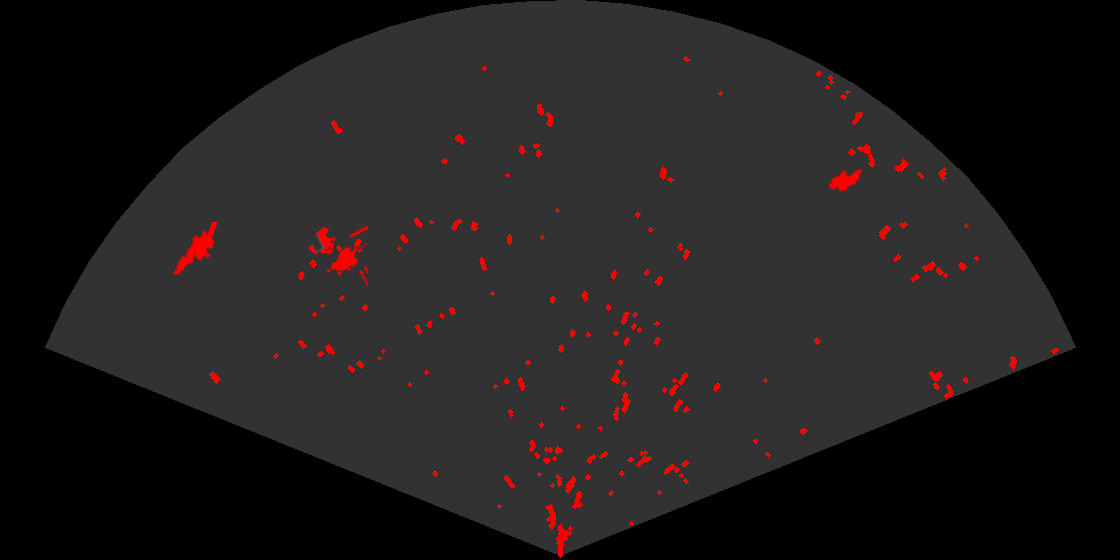AUV: (827, 167, 864, 193)
cage: (307, 224, 368, 288)
frogman: (172, 222, 220, 277)
